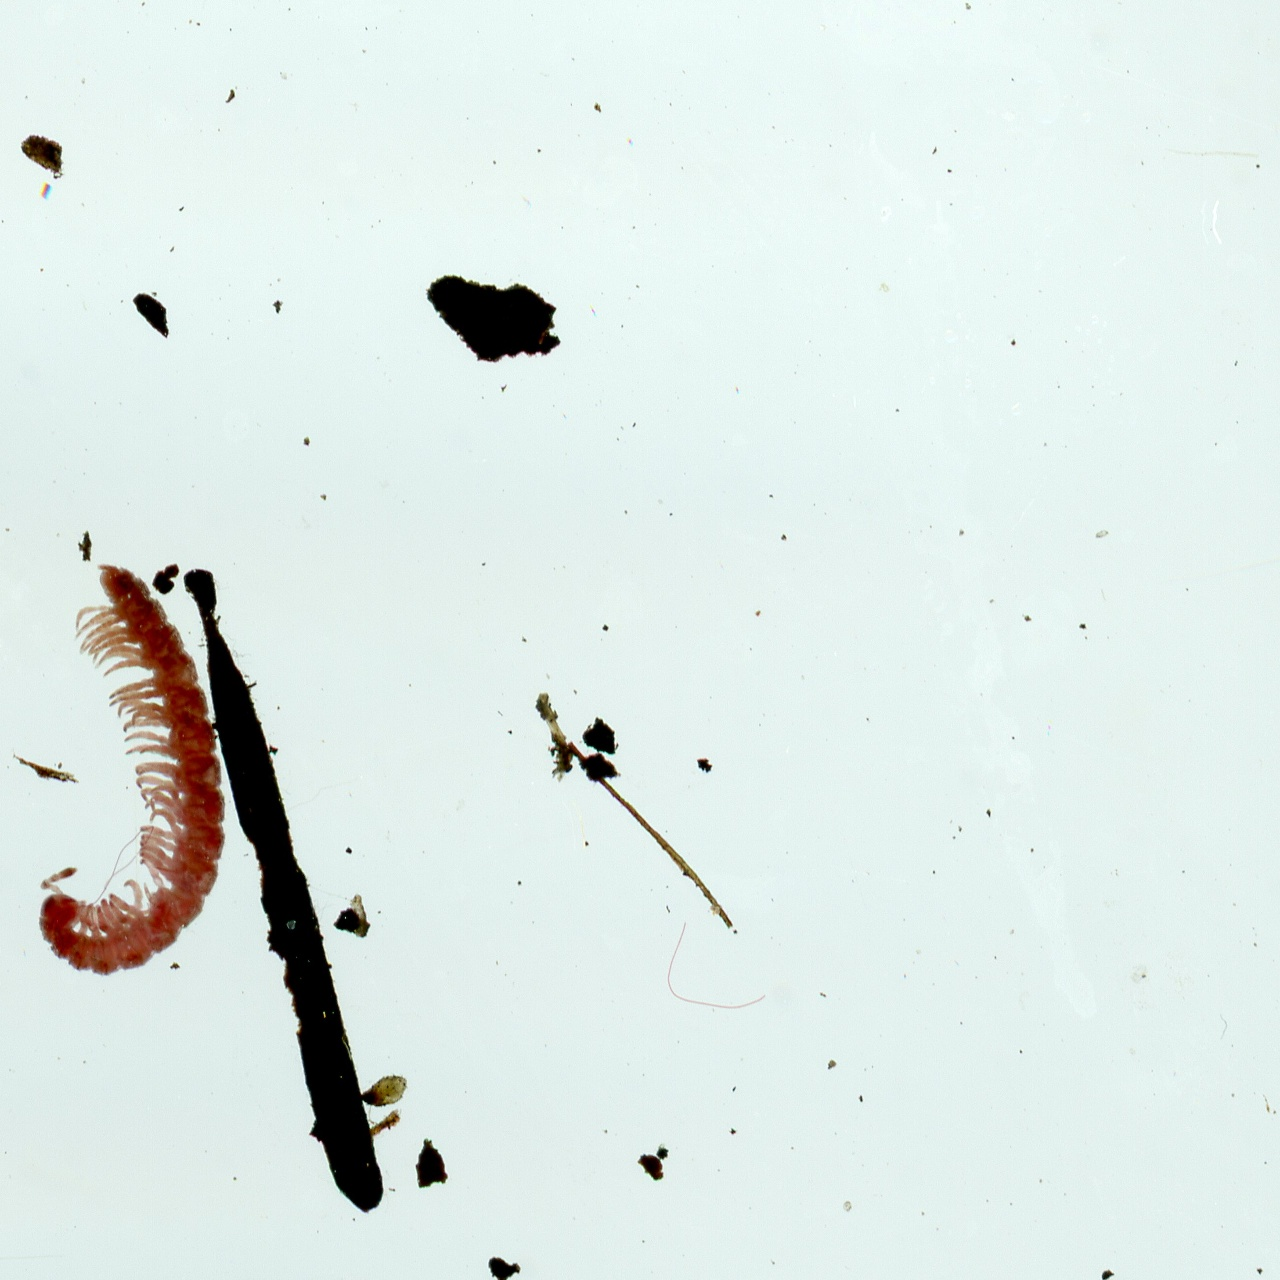arthropod: (0, 540, 266, 1005)
